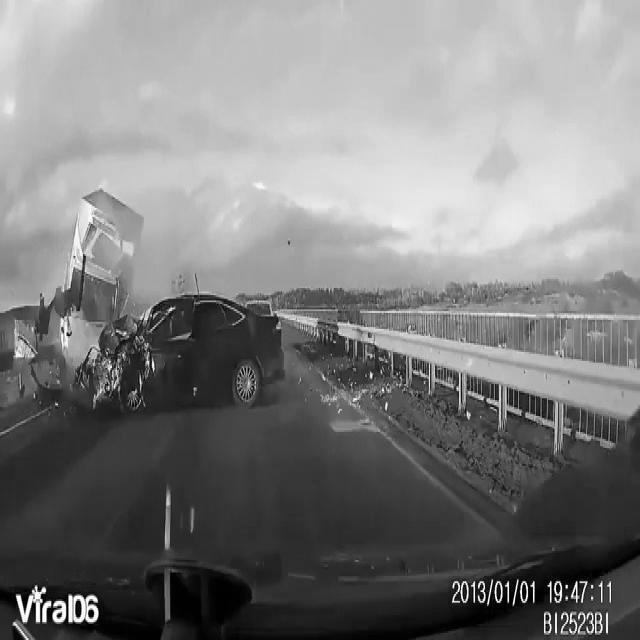accident: (39, 176, 289, 423)
